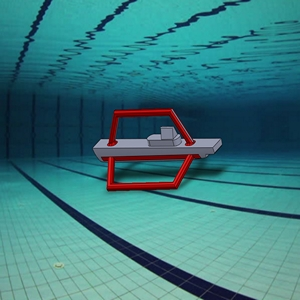submarine: (81, 101, 224, 202)
